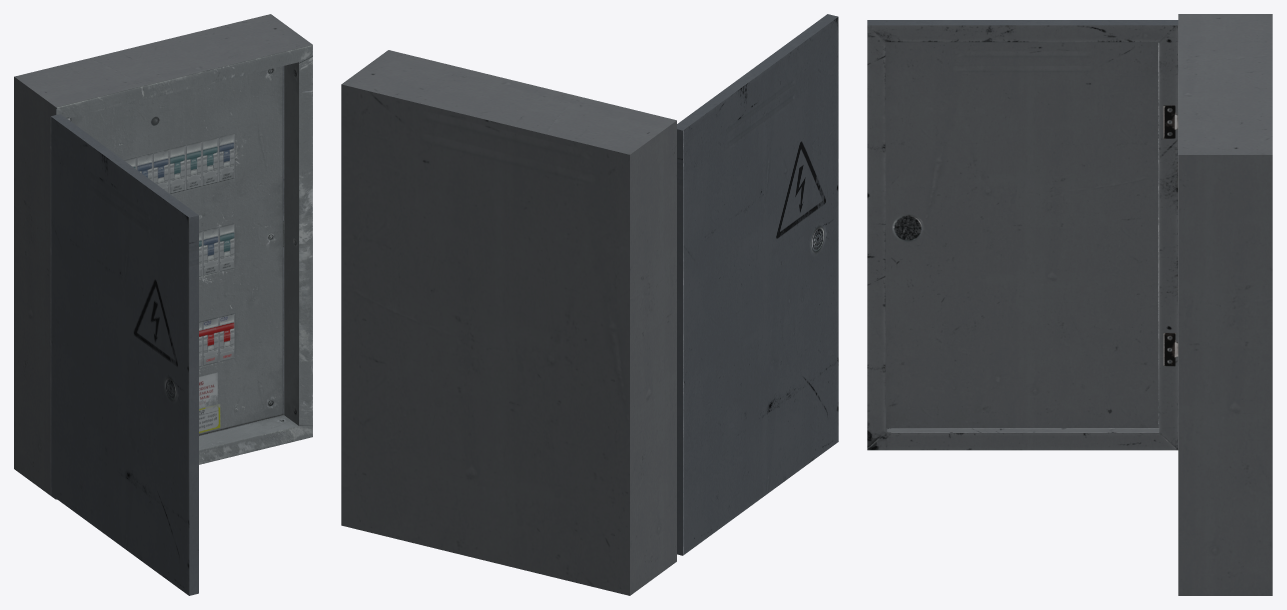
Rendered from PowerBox.fbx.
3 views of the same model, side by side, from view 1: azimuth 30°, elevation 25°; view 2: azimuth 150°, elevation 25°; view 3: azimuth 270°, elevation 25° (orthographic). The views are drawn at different scales.
Visible parts, largest first — view 1: PowerBox, Lid; view 2: PowerBox, Lid; view 3: Lid, PowerBox.
Boxes of the visible parts, <box> form: PowerBox: <box>14,14,312,499</box>; Lid: <box>50,114,198,595</box>; PowerBox: <box>341,50,676,595</box>; Lid: <box>677,14,838,555</box>; Lid: <box>867,20,1178,450</box>; PowerBox: <box>1178,14,1272,595</box>.
Size of the model in its own units: 35.28 by 50.49 by 42.06.
